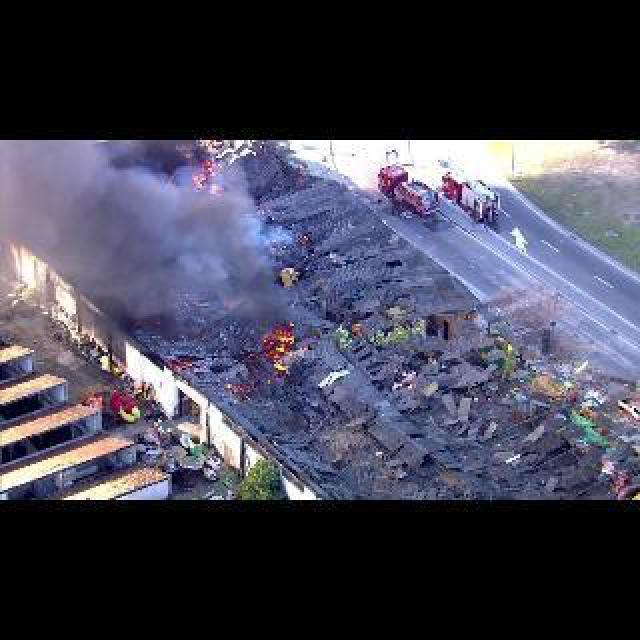Fire: (262, 328, 296, 374), (192, 156, 222, 196), (168, 358, 198, 370), (224, 382, 238, 392)
Smoke: (6, 141, 275, 344)
